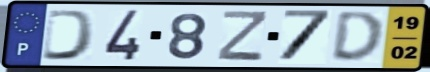4: (102, 8, 143, 63)
7: (280, 8, 334, 65)
8: (167, 12, 208, 60)
D: (328, 9, 386, 65), (39, 8, 98, 62)
Z: (215, 9, 271, 63)
